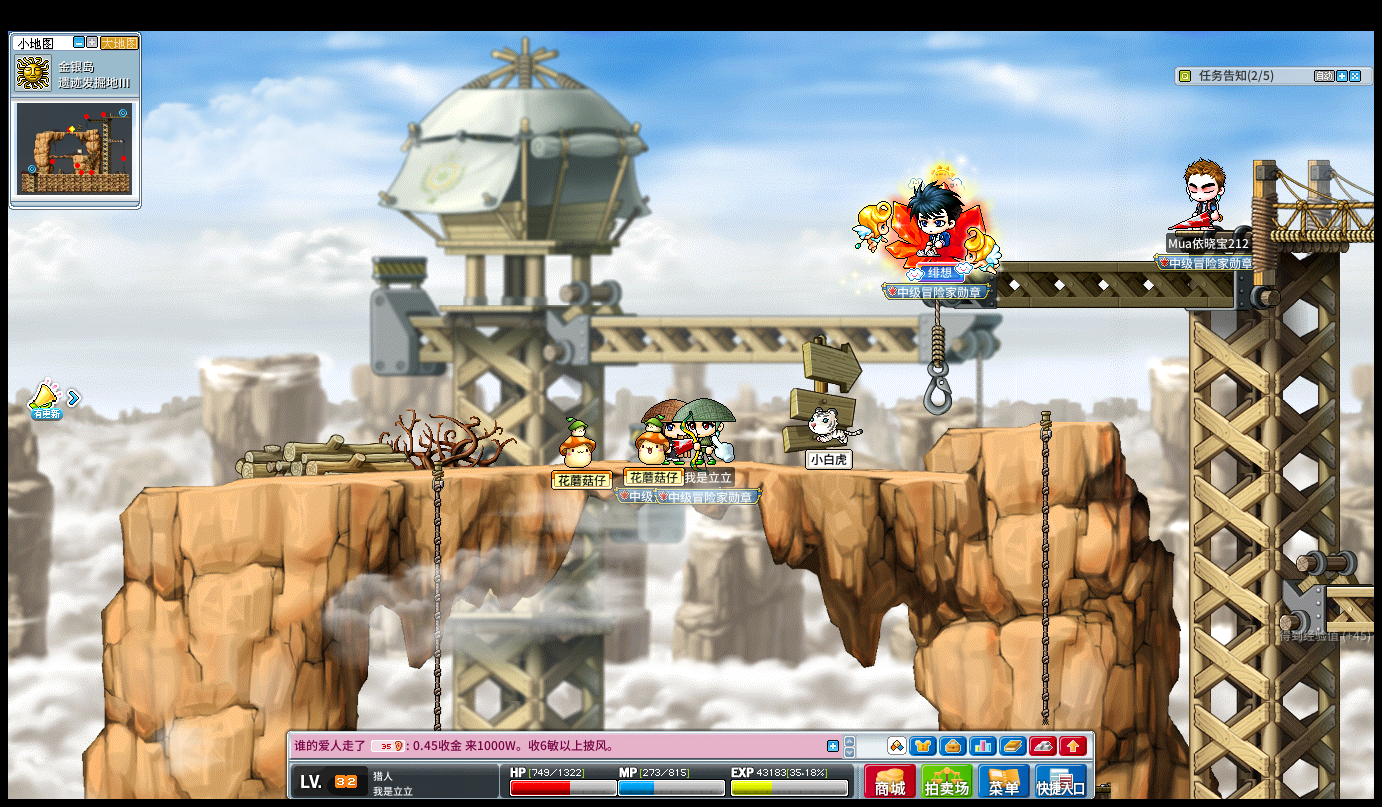floor: (143, 455, 988, 482), (951, 417, 1119, 433), (949, 421, 1122, 435), (1324, 582, 1378, 595)
rope: (1037, 409, 1052, 722), (428, 456, 443, 746), (431, 458, 443, 707)
